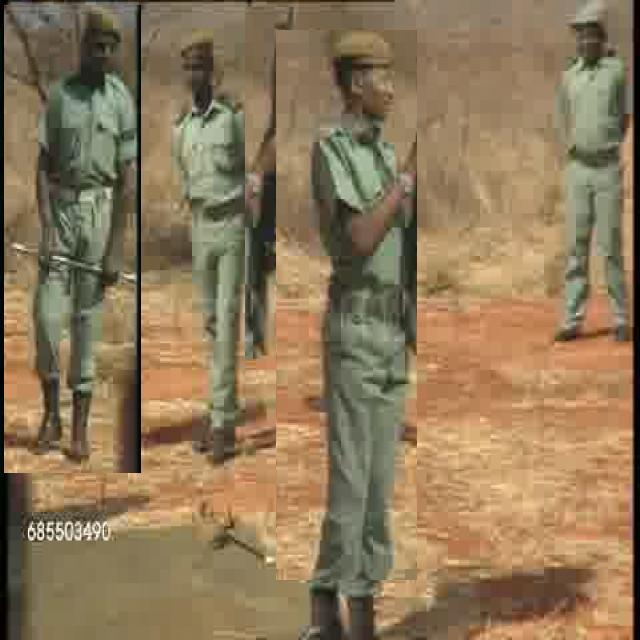poacher: (276, 30, 417, 580), (4, 5, 141, 473), (161, 12, 260, 456), (528, 2, 640, 361)
weapon: (245, 7, 296, 359)
